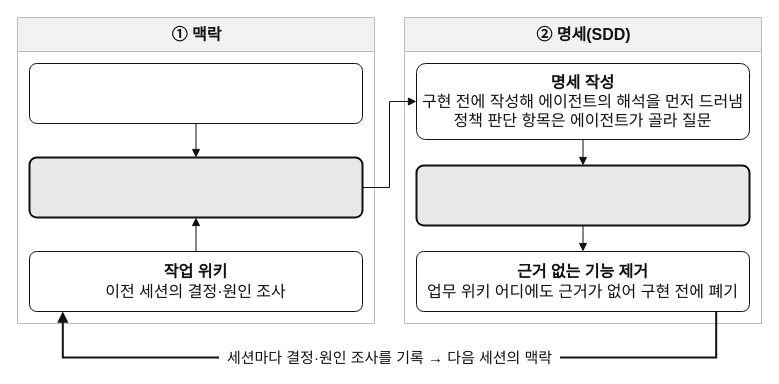
This 779x384 diagram has some shape labels left out. Each missing label, with the centre of its shape:
"기능을 없애거나 막는 항목 업무 위키에서 근거를 찾은 뒤에만 구현" goes at point 582,195.
"업무 위키 업무 매뉴얼·용어 정리" goes at point 195,93.
"에이전트가 먼저 확인 업무 규칙·이전 결정" goes at point 195,187.
